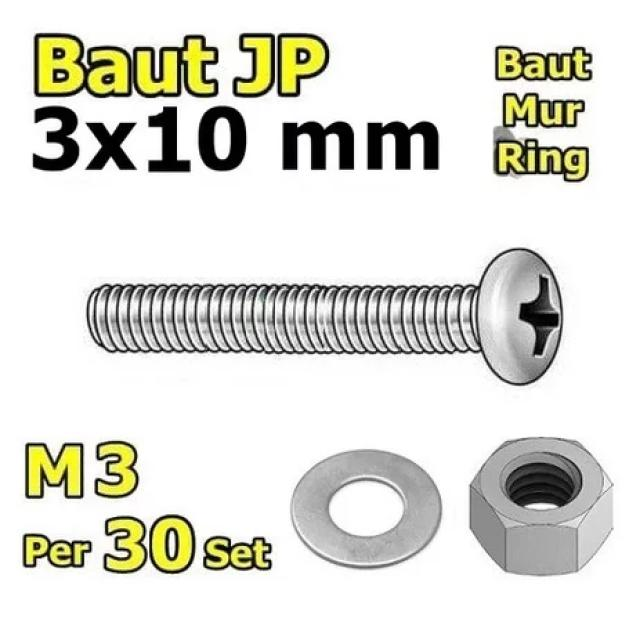Logam: (76, 238, 589, 415)
